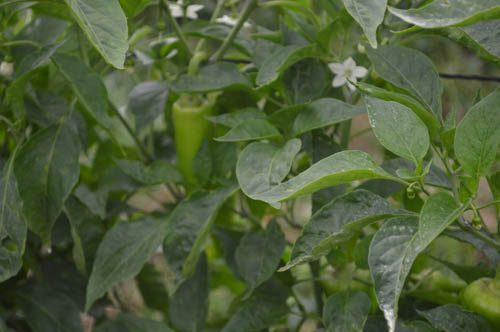ChiliPepper: (171, 101, 210, 194)
